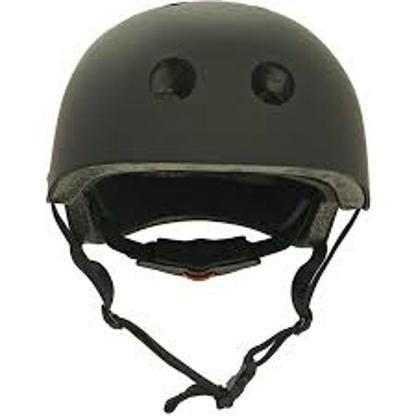not trash: (50, 0, 367, 406)
